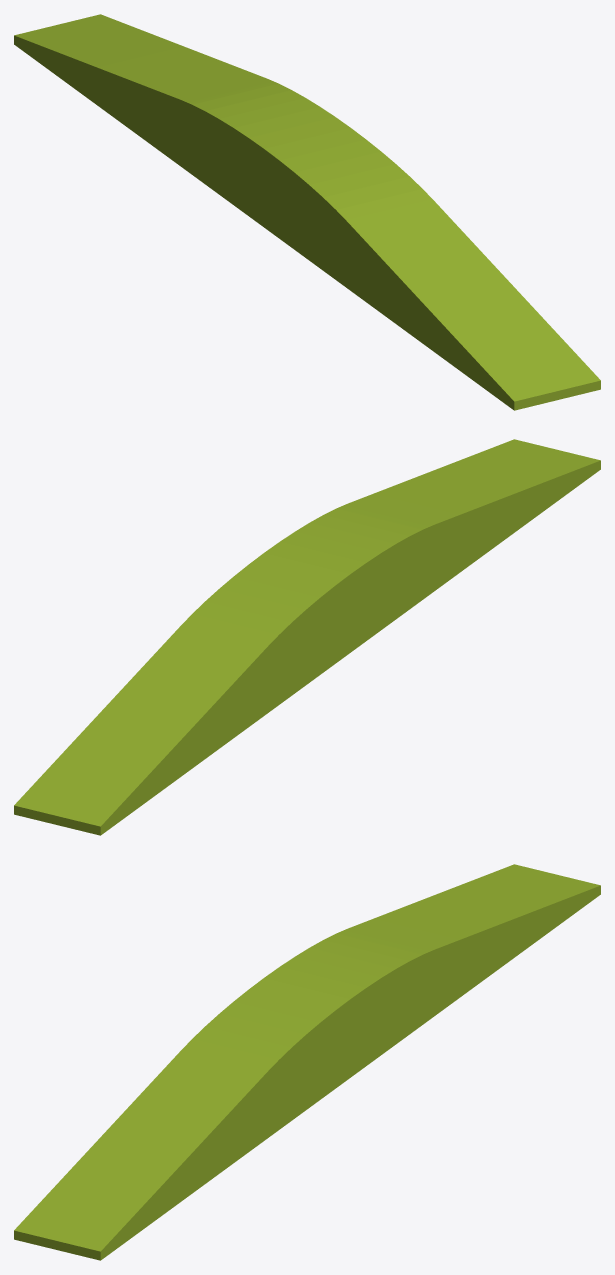
File: Tile1.fbx
3 renders of one model, top to bottom at view 1: azimuth 30°, elevation 25°; view 2: azimuth 150°, elevation 25°; view 3: azimuth 330°, elevation 25°, orthographic.
Visible parts, largest first — view 1: Cube.006; view 2: Cube.006; view 3: Cube.006.
Boxes of the visible parts, x1,y1,x2,y2 form: Cube.006: (14, 14, 600, 410); Cube.006: (14, 439, 600, 835); Cube.006: (14, 864, 600, 1260).
Size of the model in its own units: 2000 by 1735 by 20000.
